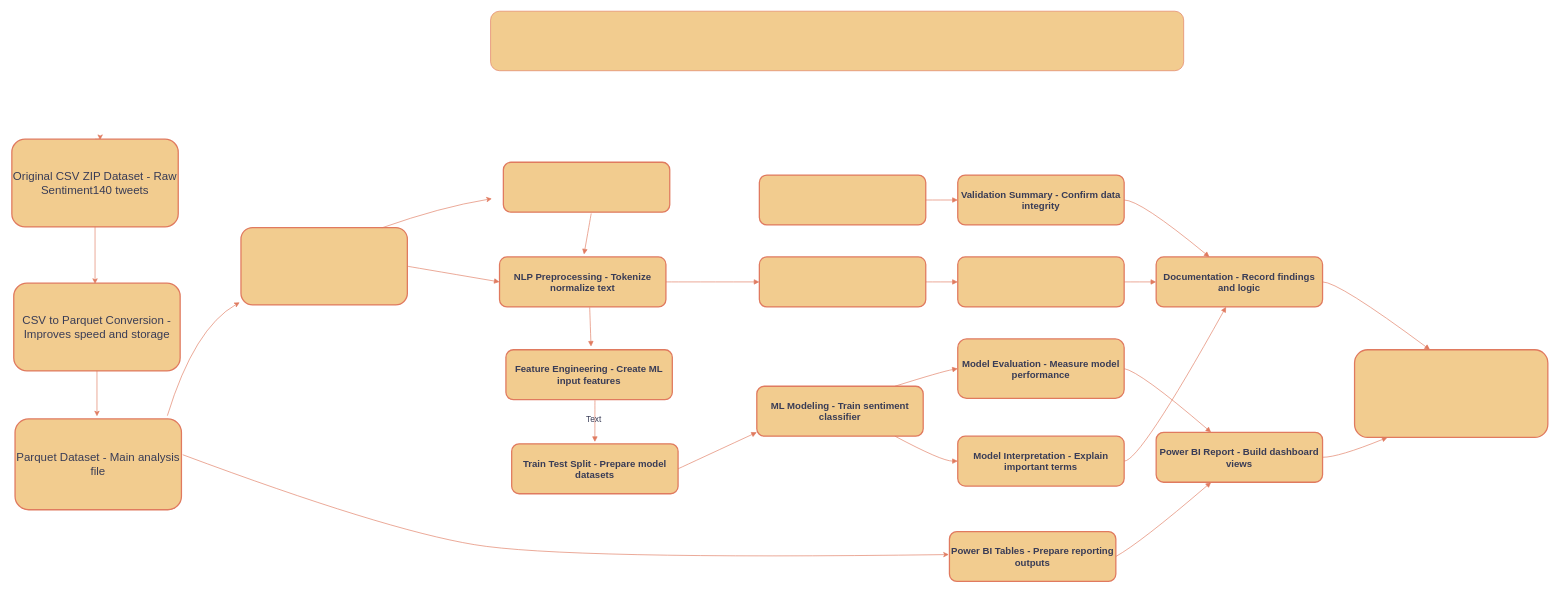
Image size: 1559x593. Some labels were removed from this diagram. Each missing label, with the centre of its shape:
Data Validation - Check rows nulls schema: the point at 842,199
Duplicate Audit - Check true duplicate tweets: the point at 842,281
Duplicate Policy - Repeated users are normal: the point at 1040,281
Final Delivery - Notebook report presentation: the point at 1451,393
Notebook Load - Loaded with pandas: the point at 324,266
Text Cleaning - Prepare tweets for NLP: the point at 586,186
Twitter Sentiment Analysis Data Pipeline Architecture: the point at 837,41
